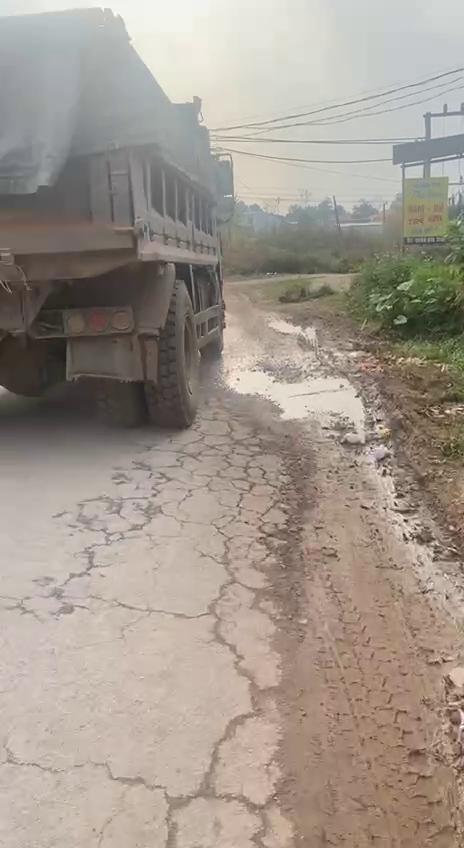pothole: (219, 367, 372, 434)
